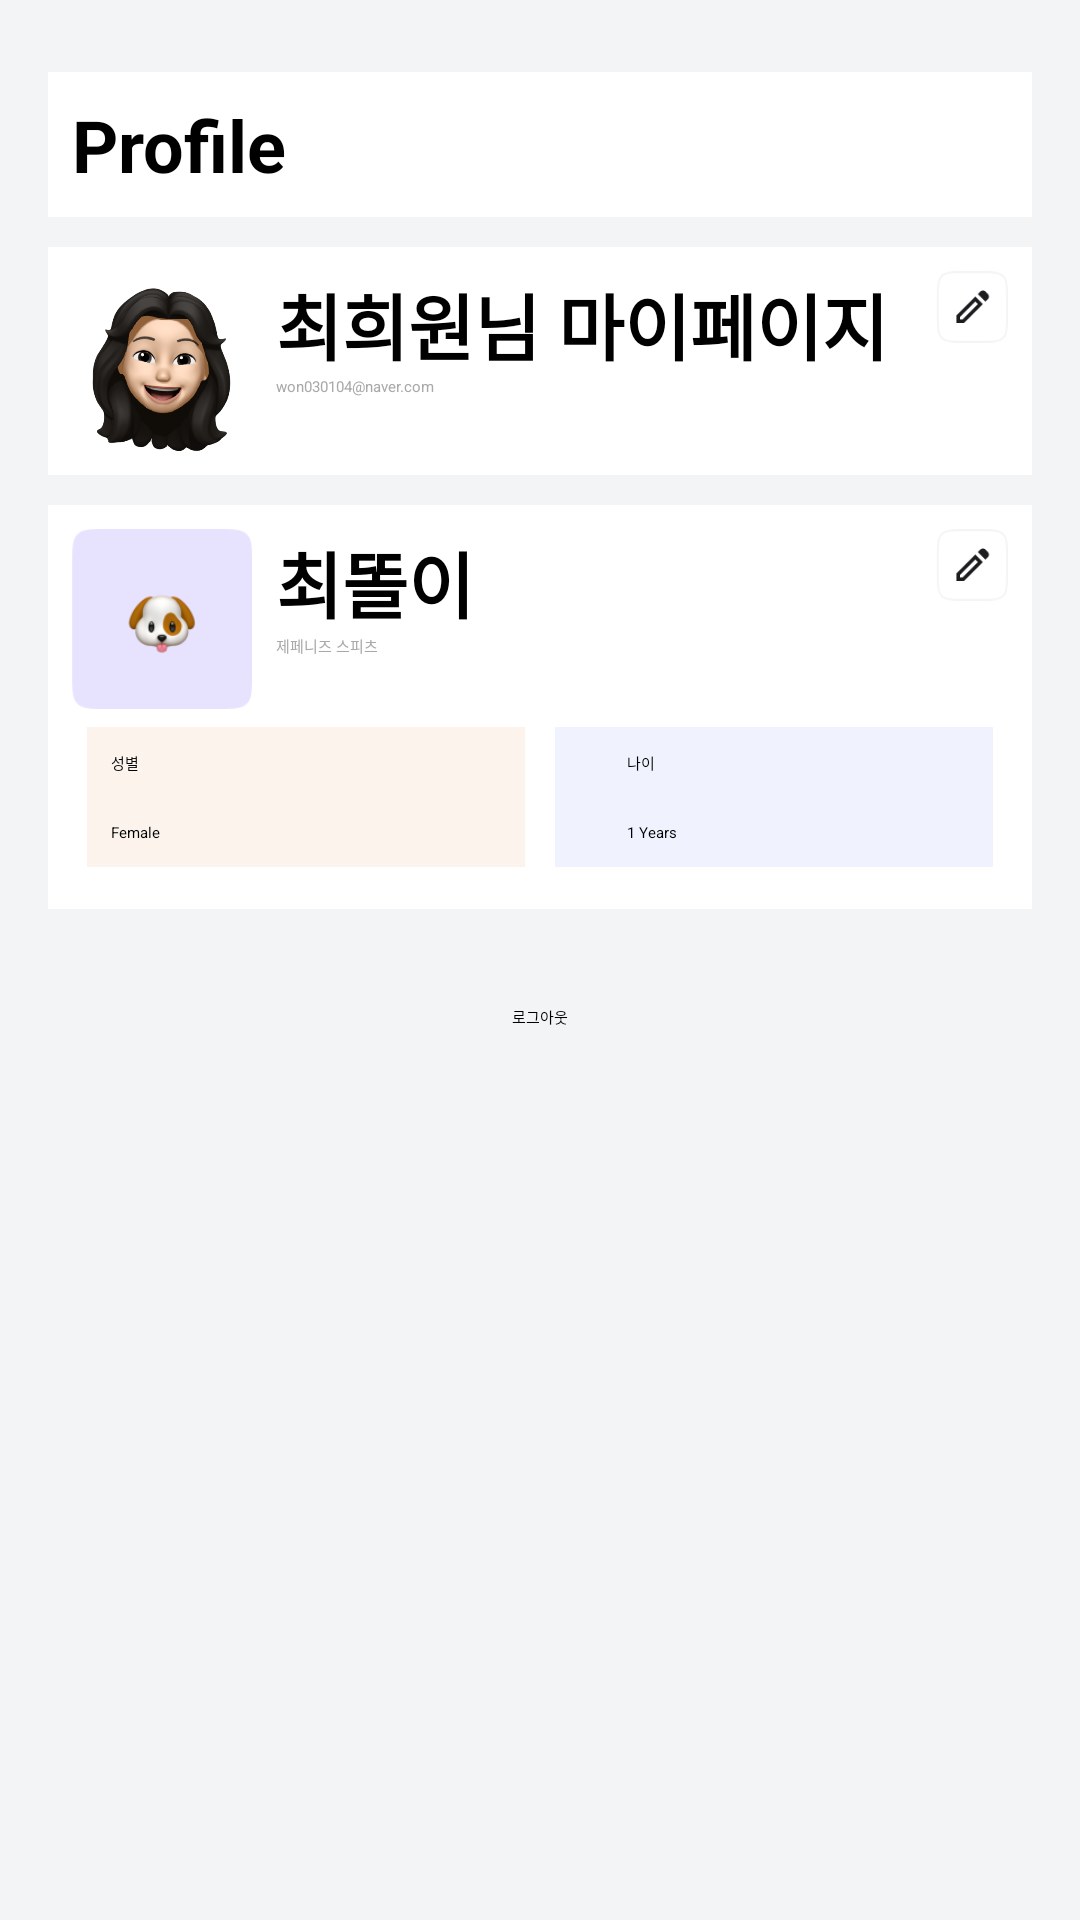

Where to tap for icons on this 1080x1920 app screen, as [x,y]:
Edit UserProfile: [973,306]
